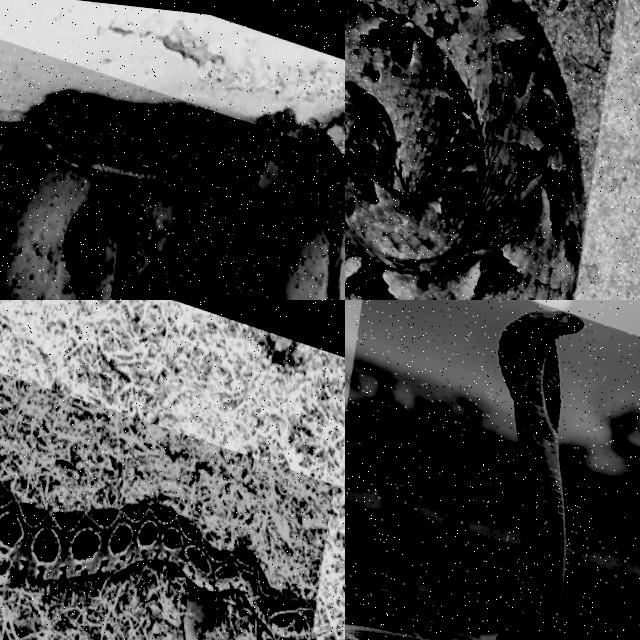Calloselasma rhodostoma: (345, 0, 584, 299)
Chrysopelea ornata: (0, 108, 344, 299)
Daboia siamensis: (0, 485, 313, 638)
Ophiophagus hannah: (495, 310, 582, 639)
snake: (345, 0, 584, 299), (0, 108, 344, 299), (0, 485, 313, 638), (495, 310, 582, 639)
